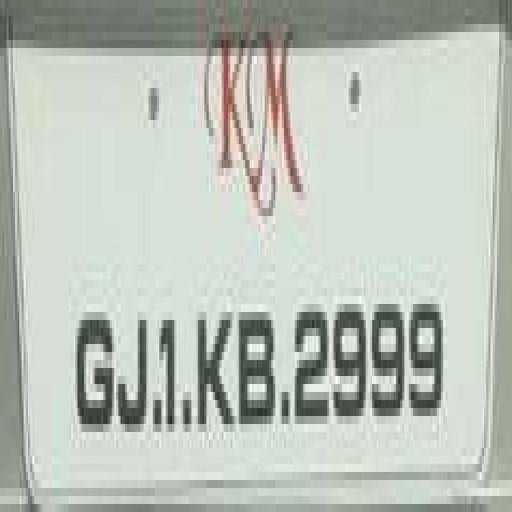number plate: (19, 64, 512, 496)
